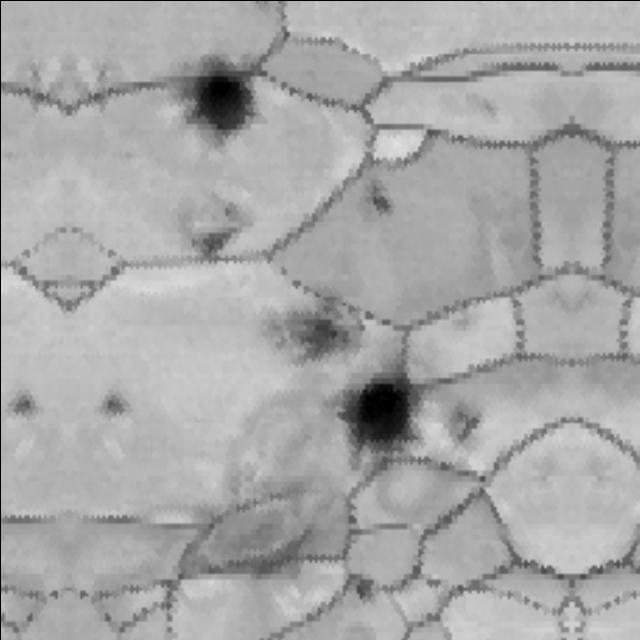good_void: (202, 476, 344, 594), (174, 44, 264, 132), (344, 361, 418, 455), (281, 289, 367, 366), (336, 176, 411, 250), (64, 58, 125, 123), (14, 63, 70, 120), (442, 399, 480, 446), (190, 219, 239, 251), (6, 381, 36, 420), (102, 382, 131, 420), (349, 571, 380, 602), (214, 200, 244, 226)
